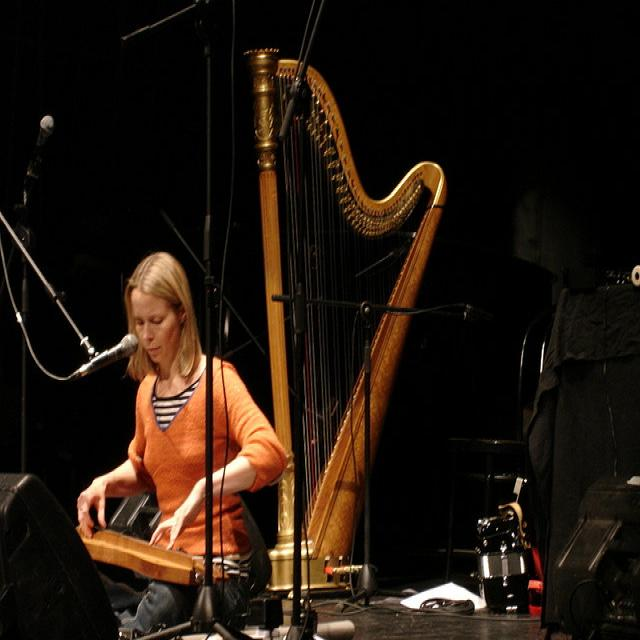harp: (240, 38, 450, 596)
